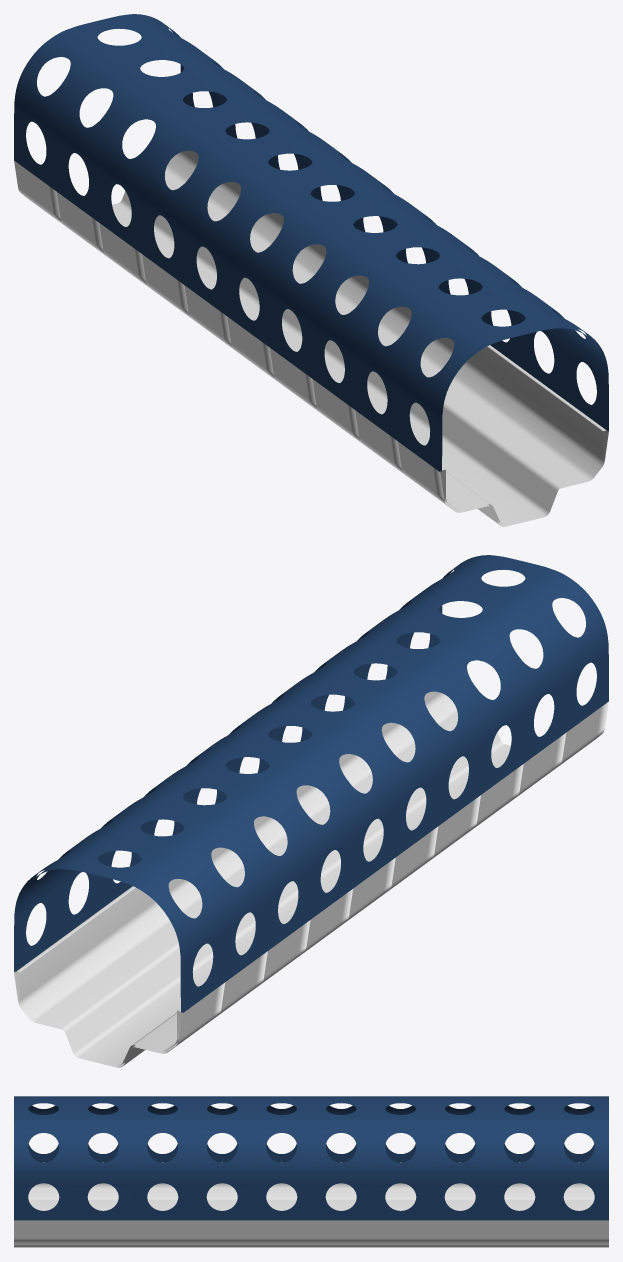
The model's file is NaV_Center02_Carlinga.fbx.
3 views of the same model, one above another, from view 1: azimuth 30°, elevation 25°; view 2: azimuth 150°, elevation 25°; view 3: azimuth 270°, elevation 25° (orthographic). The views are drawn at different scales.
Parts seen in each view (by area): view 1: NaV_Center02_Carlinga; view 2: NaV_Center02_Carlinga; view 3: NaV_Center02_Carlinga.
Boxes of the visible parts, box(x1,y1,x2,y2) form: NaV_Center02_Carlinga: box(14, 14, 608, 526); NaV_Center02_Carlinga: box(14, 555, 608, 1067); NaV_Center02_Carlinga: box(14, 1096, 608, 1247).
Bounding box in the file's own units: 286 × 306 × 1250.
